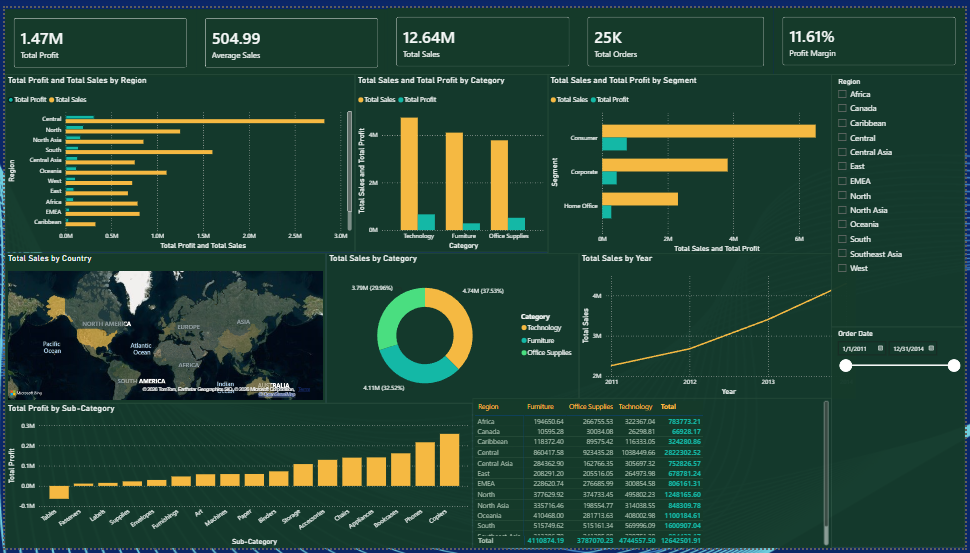

Layout of this report page (visuals, bound fields, positions):
{"tool":"powerbi","page":{"name":"Page 1","canvas":[1920,1080],"ordinal":0},"visuals":[{"type":"cardVisual","fields":{"Data":["Global_Superstore2.Total Sales"]},"box":[765.6,0,382.8,135.4],"z":0},{"type":"cardVisual","fields":{"Data":["Global_Superstore2.Profit Margin"]},"box":[1537.6,0,382.8,133.2],"z":1000},{"type":"cardVisual","fields":{"Data":["Global_Superstore2.Total Orders"]},"box":[1148.5,0,389.2,135.4],"z":2000},{"type":"cardVisual","fields":{"Data":["Global_Superstore2.Total Profit"]},"box":[0,2.1,382.8,135.4],"z":3000},{"type":"cardVisual","fields":{"Data":["Global_Superstore2.Average Sales"]},"box":[382.8,2.1,382.8,135.4],"z":4000},{"type":"clusteredBarChart","fields":{"Category":["Global_Superstore2.Region"],"Y":["Global_Superstore2.Total Profit","Global_Superstore2.Total Sales"]},"box":[0,136,1004.8,352.6],"z":5000},{"type":"clusteredBarChart","fields":{"Category":["Global_Superstore2.Segment"],"Y":["Global_Superstore2.Total Sales","Global_Superstore2.Total Profit"]},"box":[1004.8,138.1,647.9,350.5],"z":6000},{"type":"clusteredColumnChart","fields":{"Category":["Global_Superstore2.Category"],"Y":["Global_Superstore2.Total Sales","Global_Superstore2.Total Profit"]},"box":[0,788.1,448.2,293.2],"z":7000},{"type":"clusteredColumnChart","fields":{"Category":["Global_Superstore2.Sub-Category"],"Y":["Global_Superstore2.Total Profit"]},"box":[448.2,788.1,635.2,288.9],"z":8000},{"type":"lineChart","fields":{"Category":["Global_Superstore2.Order Date.Variation.Date Hierarchy.Year","Global_Superstore2.Order Date.Variation.Date Hierarchy.Quarter","Global_Superstore2.Order Date.Variation.Date Hierarchy.Month","Global_Superstore2.Order Date.Variation.Date Hierarchy.Day"],"Y":["Global_Superstore2.Total Sales"]},"box":[1098.3,788.1,554.5,291],"z":9000},{"type":"donutChart","fields":{"Category":["Global_Superstore2.Category"],"Y":["Global_Superstore2.Total Sales"]},"box":[1098.3,488.6,554.5,299.5],"z":10000},{"type":"filledMap","fields":{"Category":["Global_Superstore2.Country"]},"box":[0,488.6,596.9,299.5],"z":10001},{"type":"pivotTable","fields":{"Rows":["Global_Superstore2.Region"],"Columns":["Global_Superstore2.Category"],"Values":["Global_Superstore2.Total Sales"]},"box":[596.9,488.6,509.8,299.5],"z":10002},{"type":"slicer","fields":{"Values":["Global_Superstore2.Region"]},"box":[1652.8,138.1,267.7,499.2],"z":10003},{"type":"slicer","fields":{"Values":["Global_Superstore2.Order Date"]},"box":[1652.8,637.3,267.7,441.9],"z":10004}]}

Visuals, with their boxes in screenshot pixels (x1, y1, x2, y2), scaled from the page's 1920x1080 canvas onto the 970x553 screenshot:
cardVisual - Global_Superstore2.Total Sales: 387, 0, 580, 69
cardVisual - Global_Superstore2.Profit Margin: 777, 0, 969, 68
cardVisual - Global_Superstore2.Total Orders: 580, 0, 777, 69
cardVisual - Global_Superstore2.Total Profit: 0, 1, 193, 70
cardVisual - Global_Superstore2.Average Sales: 193, 1, 387, 70
clusteredBarChart - Global_Superstore2.Region x Global_Superstore2.Total Profit: 0, 70, 508, 250
clusteredBarChart - Global_Superstore2.Segment x Global_Superstore2.Total Sales: 508, 71, 835, 250
clusteredColumnChart - Global_Superstore2.Category x Global_Superstore2.Total Sales: 0, 404, 226, 552
clusteredColumnChart - Global_Superstore2.Sub-Category x Global_Superstore2.Total Profit: 226, 404, 547, 551
lineChart - Global_Superstore2.Order Date.Variation.Date Hierarchy.Year x Global_Superstore2.Order Date.Variation.Date Hierarchy.Quarter: 555, 404, 835, 552
donutChart - Global_Superstore2.Category x Global_Superstore2.Total Sales: 555, 250, 835, 404
filledMap - Global_Superstore2.Country: 0, 250, 302, 404
pivotTable - Global_Superstore2.Region x Global_Superstore2.Category: 302, 250, 559, 404
slicer - Global_Superstore2.Region: 835, 71, 969, 326
slicer - Global_Superstore2.Order Date: 835, 326, 969, 552
